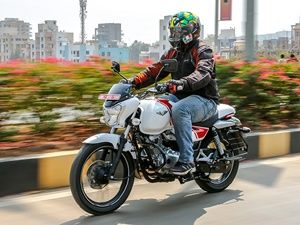helmet: (165, 11, 201, 45)
